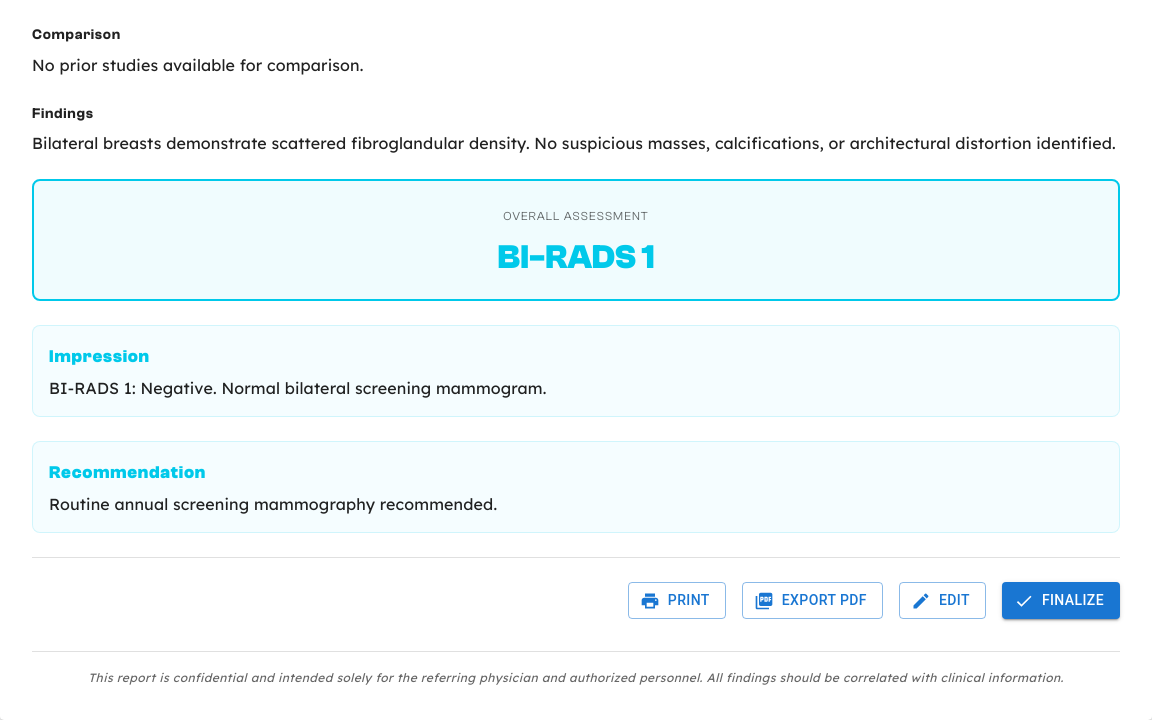
Test: ReportPreview Editing › should enter edit mode with Save/Cancel buttons when Edit is clicked
(page scrolled)
Click the button "Edit" at (942, 601), box [899, 582, 986, 619]
(page scrolled)
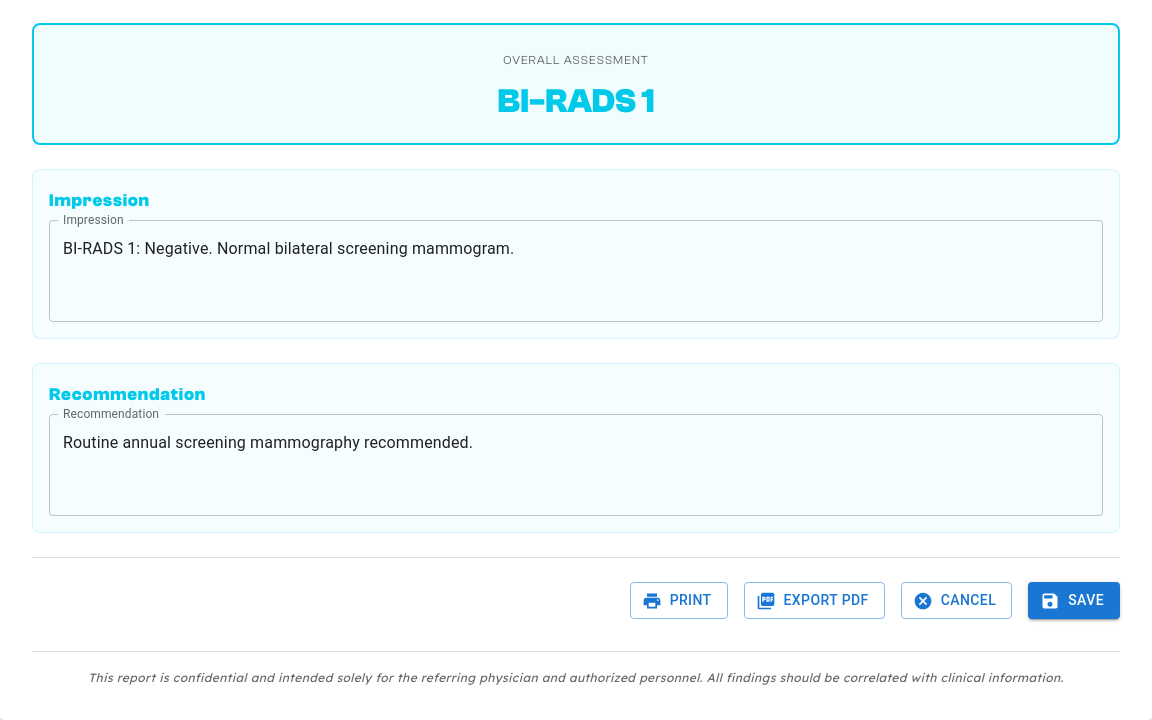
Result: the button "Save" is shown at [1028, 582, 1120, 619]
Result: the button "Cancel" is shown at [901, 582, 1012, 619]
